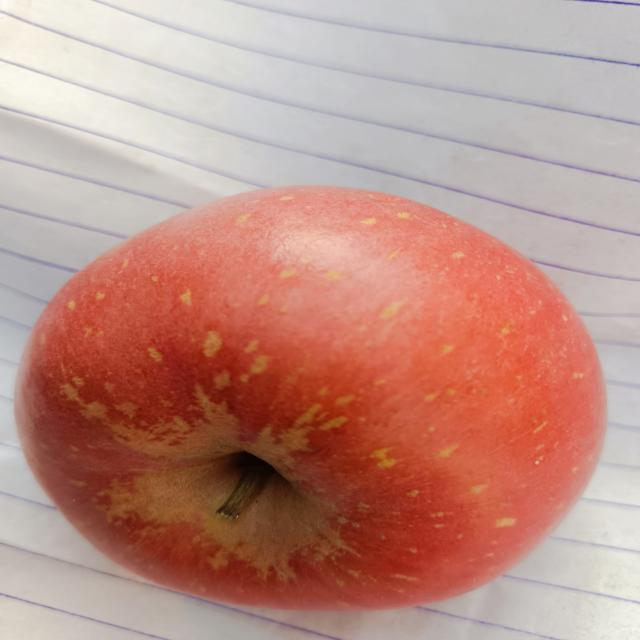Fresh Apple: (17, 185, 595, 615)
